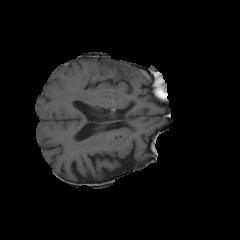glioma: (99, 59, 165, 97)
